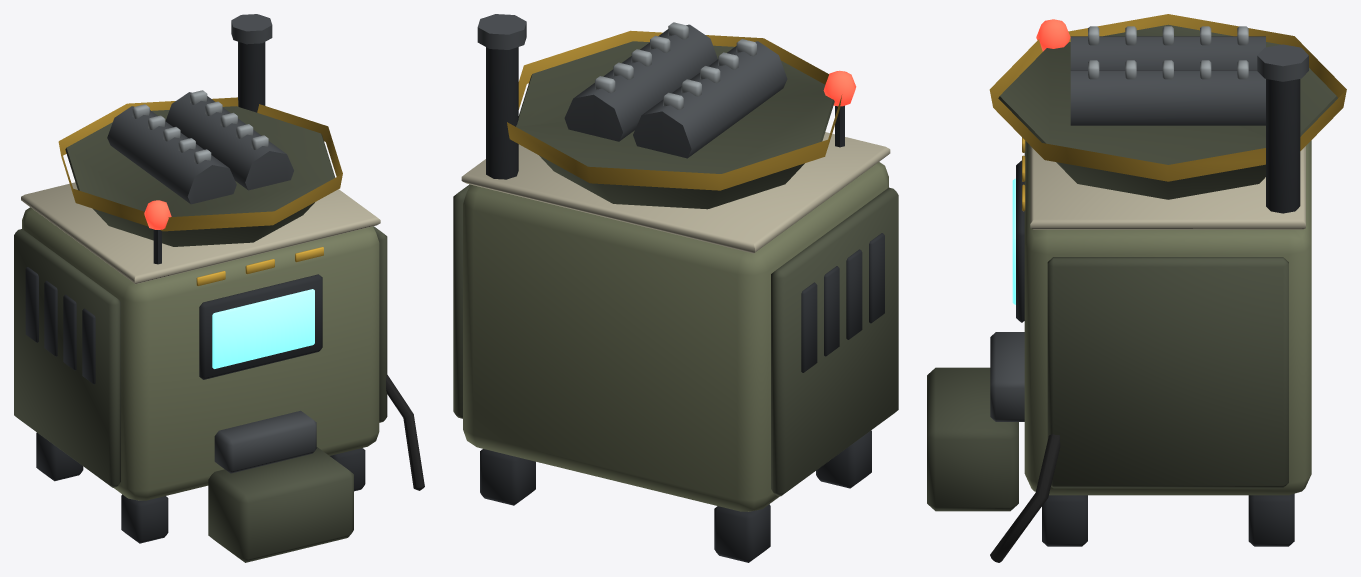
Rendered from recycler.glb.
3 renders of one model, left to right at view 1: azimuth 30°, elevation 25°; view 2: azimuth 150°, elevation 25°; view 3: azimuth 270°, elevation 25°, orthographic. The views are drawn at different scales.
Parts seen in each view (by area): view 1: recycler; view 2: recycler; view 3: recycler.
Boxes of the visible parts, <box> form: recycler: <box>14,14,424,562</box>; recycler: <box>453,14,898,562</box>; recycler: <box>927,14,1346,562</box>.
Size of the model in its own units: 0.7367 by 0.93 by 0.7311.
1 material, 1 textured.
